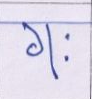anusvara: (65, 34, 70, 39)
